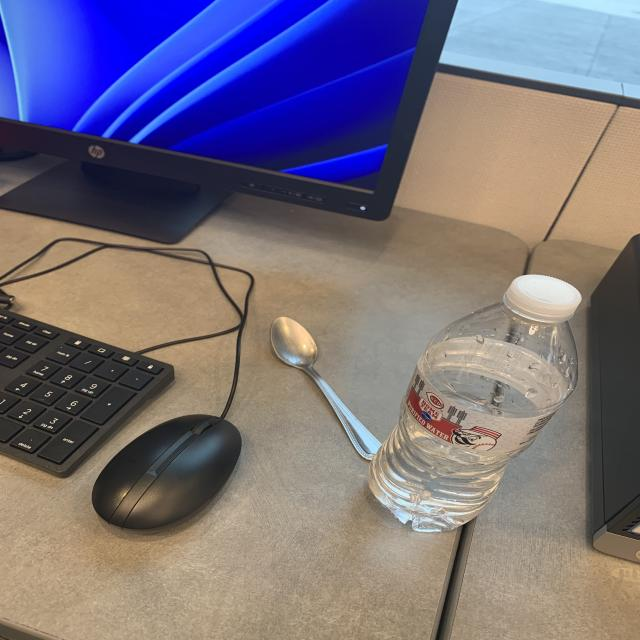Mouse: (89, 412, 249, 532)
Spoon: (264, 314, 382, 462)
